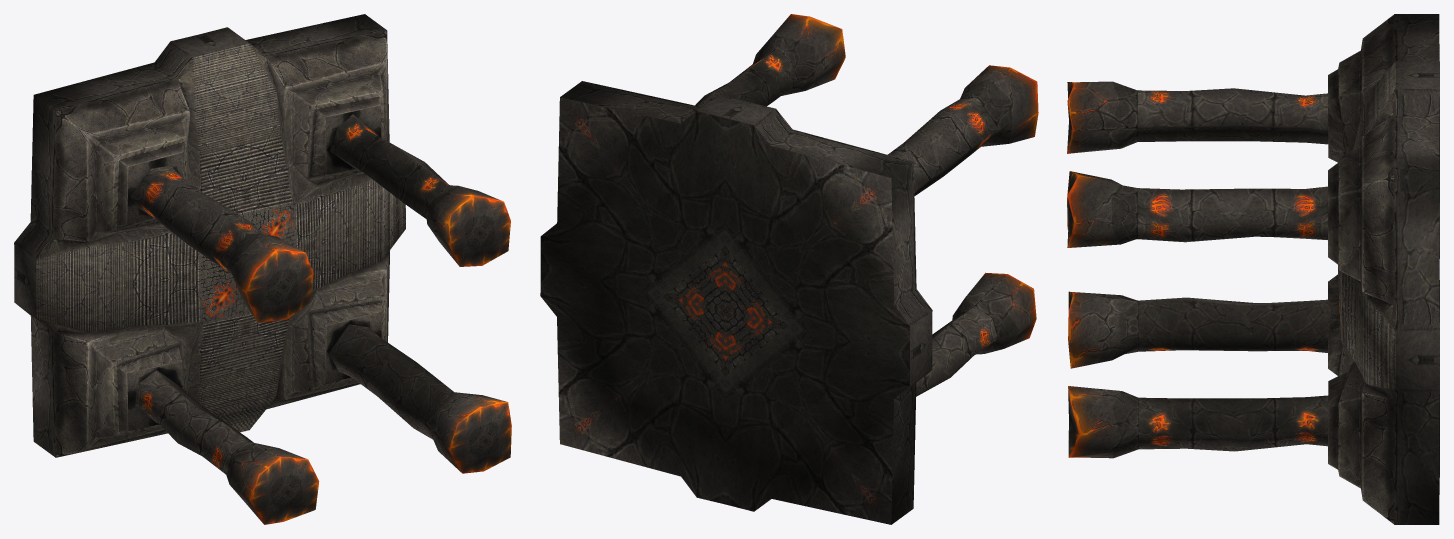
File: Altar-02.obj
3 renders of one model, left to right at view 1: azimuth 30°, elevation 25°; view 2: azimuth 150°, elevation 25°; view 3: azimuth 270°, elevation 25°, orthographic.
Visible parts, largest first — view 1: (null); view 2: (null); view 3: (null).
Boxes of the visible parts, <box> form: (null): <box>14,14,511,524</box>; (null): <box>540,14,1038,524</box>; (null): <box>1067,14,1439,524</box>.
Size of the model in its own units: 8.65 by 8.65 by 7.52.
